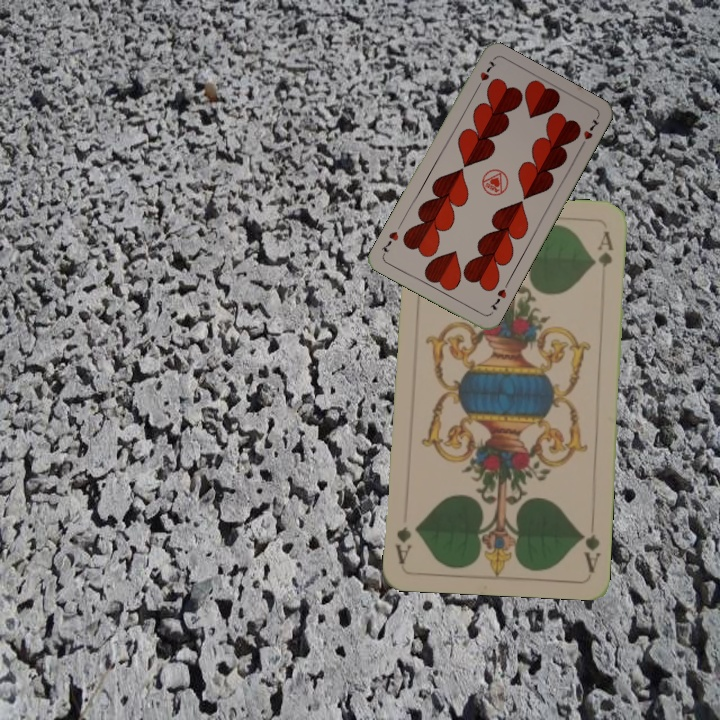GA: (576, 528, 603, 574)
H7: (471, 57, 499, 93), (486, 285, 509, 313)
